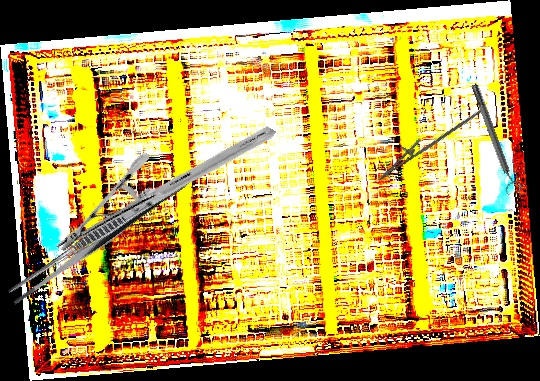Dressing Forceps: (5, 165, 198, 308)
Fixation Ring: (466, 81, 524, 197)
Needle Holder: (55, 64, 277, 314), (372, 90, 483, 193)
